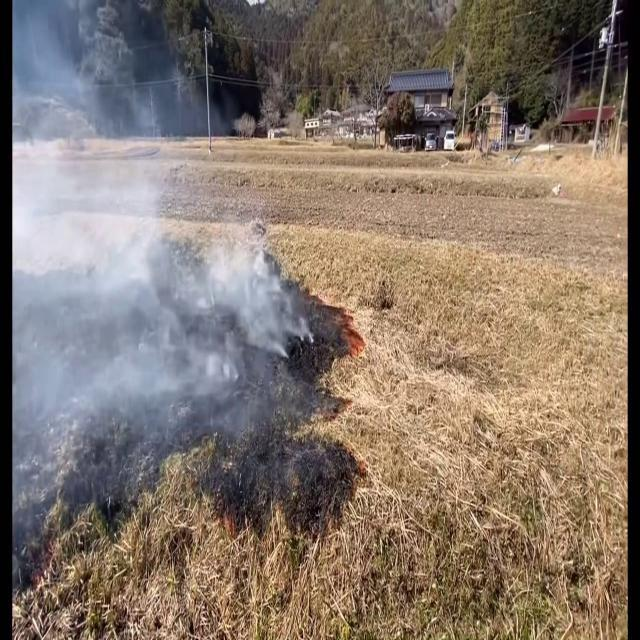Smoke: (13, 153, 308, 514)
